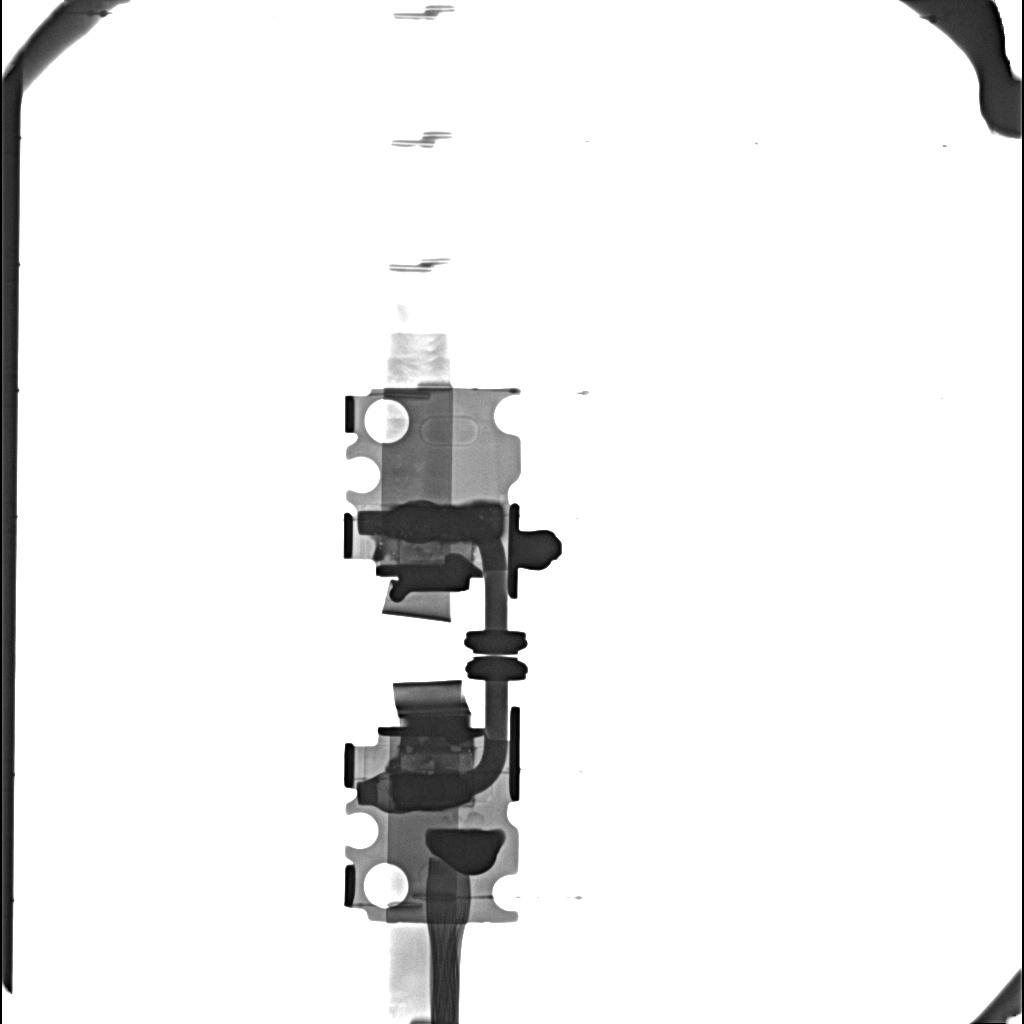SX: (387, 505, 501, 541), (392, 772, 471, 813)
